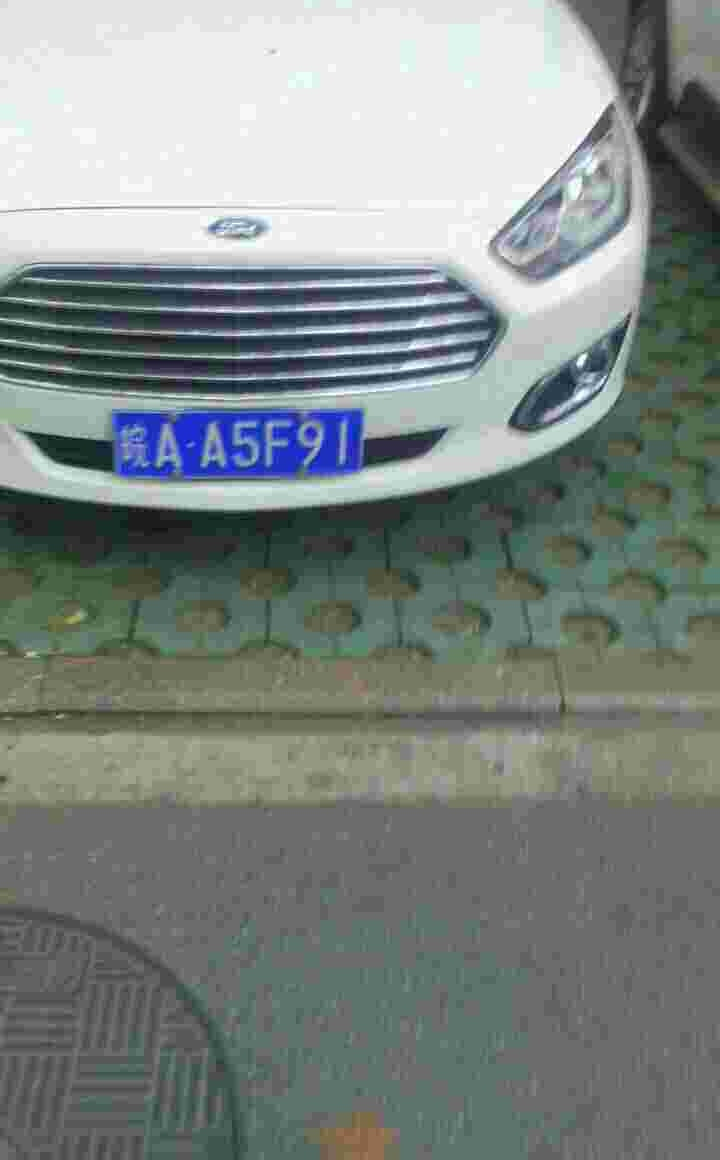license_plate: (118, 403, 362, 486)
